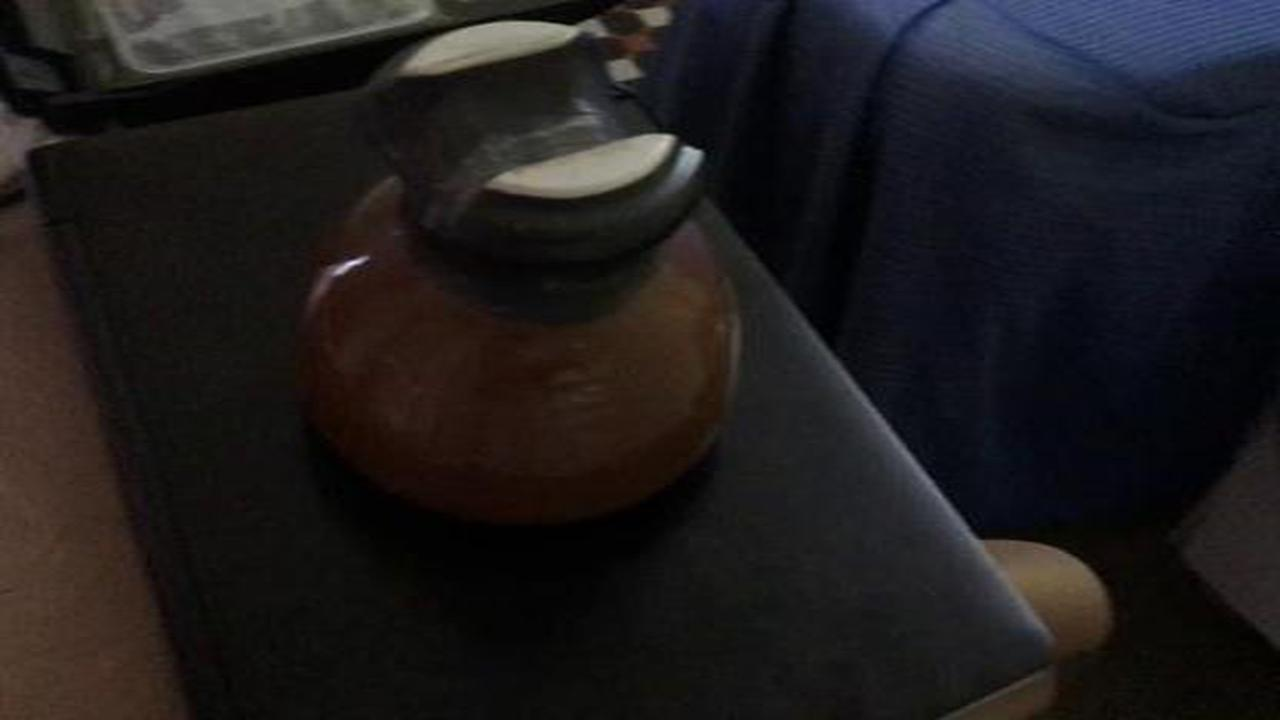insulator_pin: (270, 6, 770, 554)
